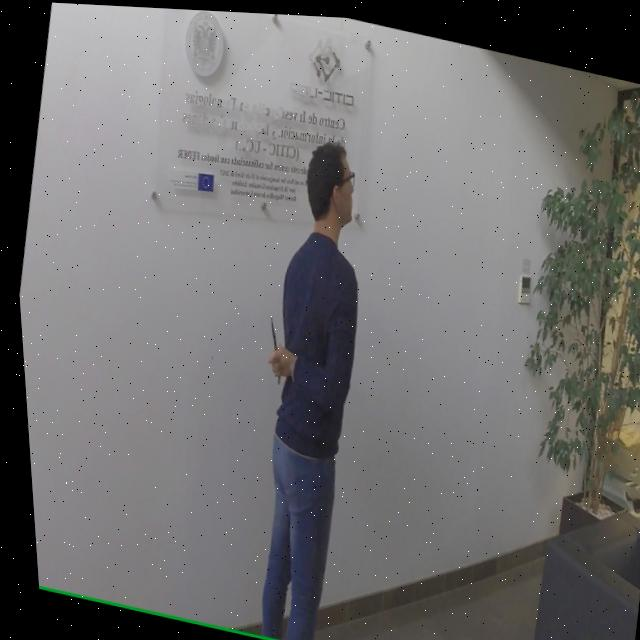knife: (255, 309, 280, 352)
